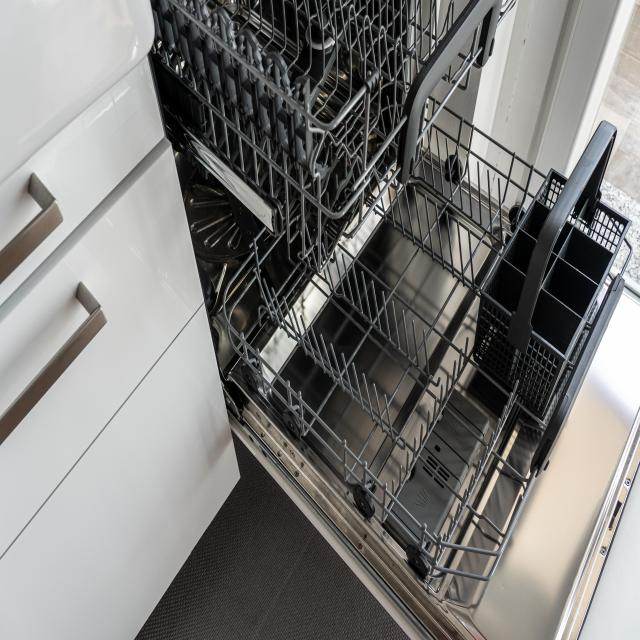dishwasher: (151, 2, 629, 640)
